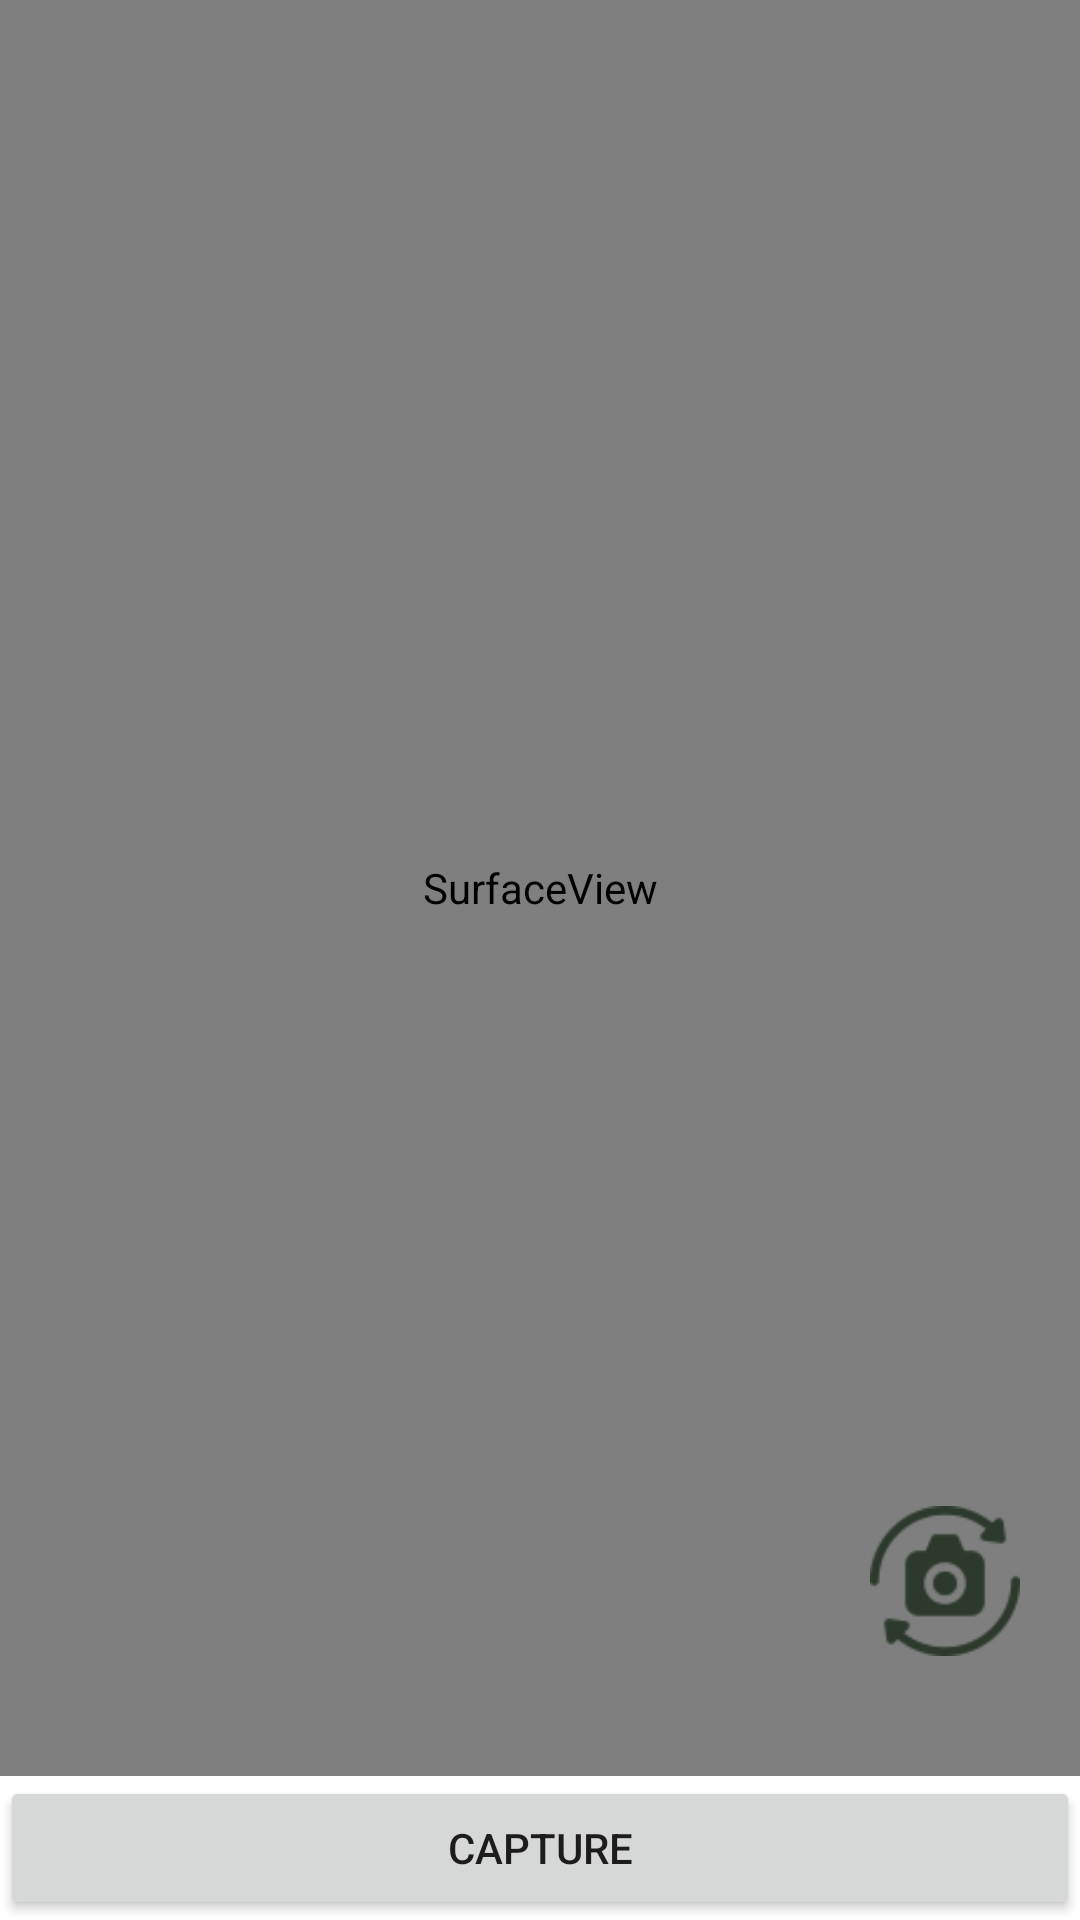

Where to tap for icons on this 1080px x 1920px app screen, as [x,y]:
switch camera: [945,1581]
